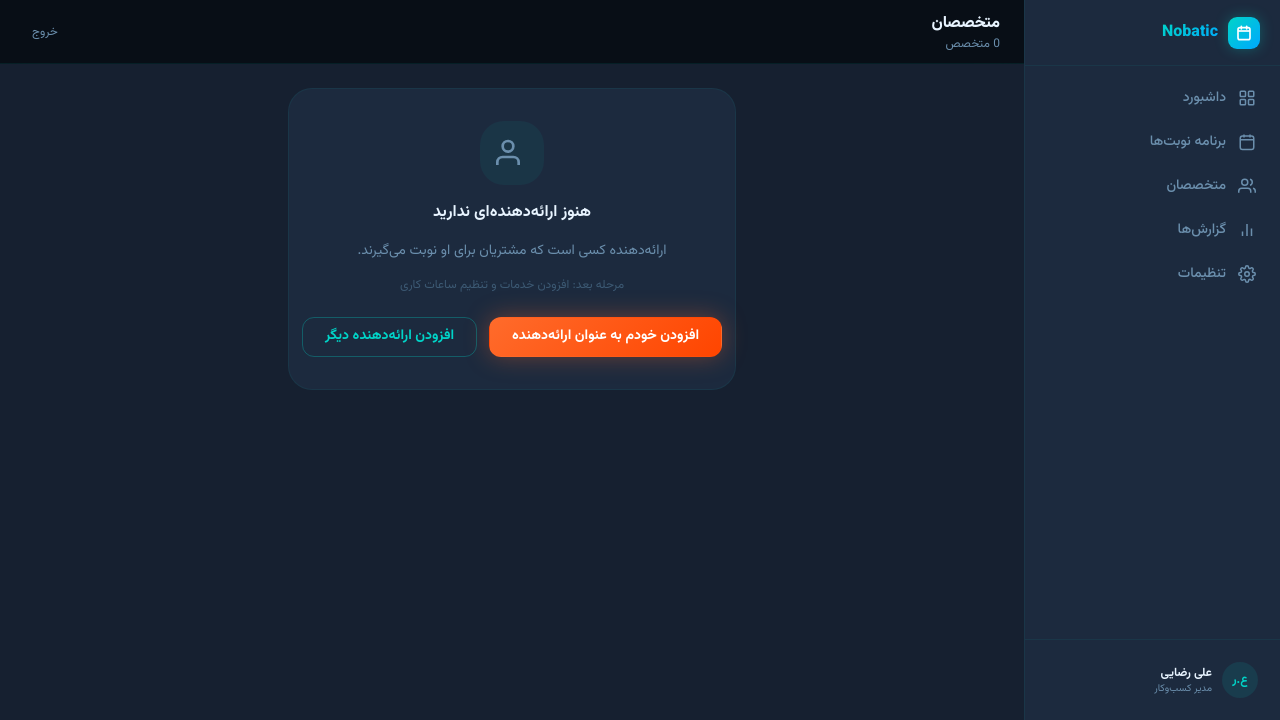
Test: ProvidersPage — solo fast-path errors › shows generic error when server returns no specific message
Click the button "افزودن خودم به عنوان ارائه‌دهنده" at (606, 337), box [489,317,722,356]
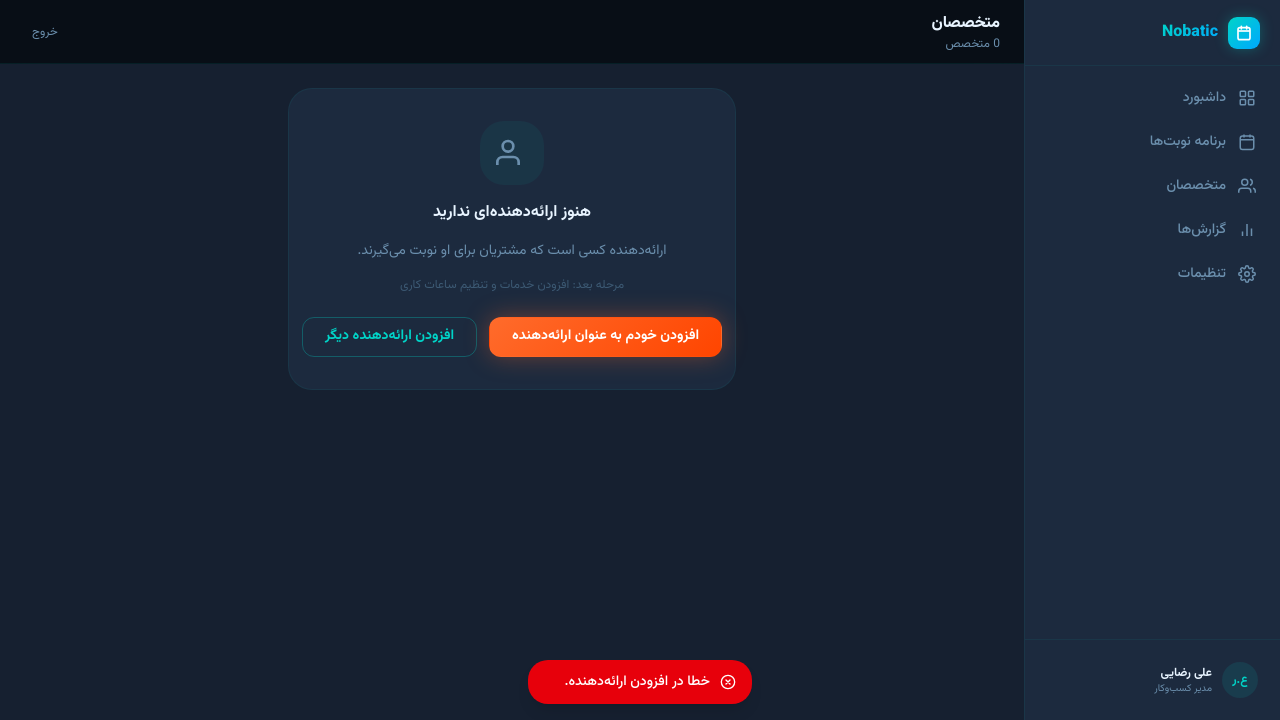
expect the text "خطا در افزودن ارائه‌دهنده." is shown: met, box [544,672,710,692]
